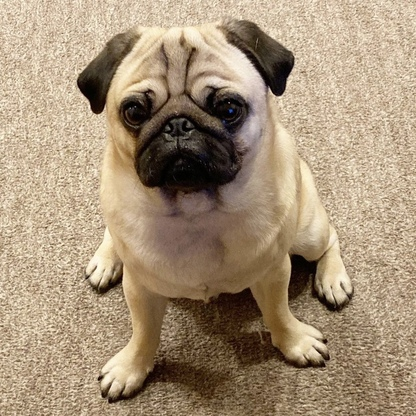Pug: (73, 14, 357, 406)
